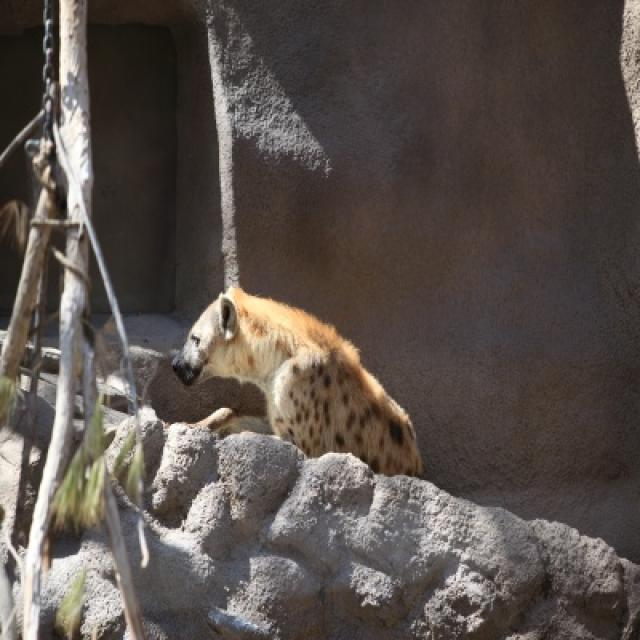hyena: (171, 286, 424, 478)
